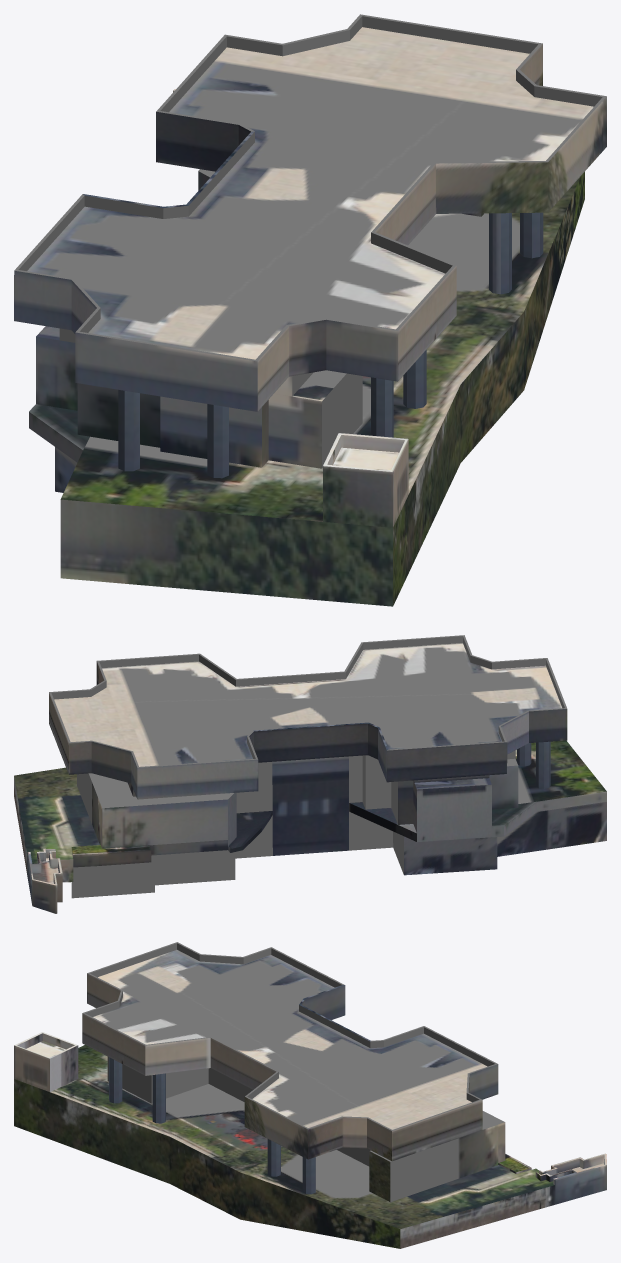
File: input.glb
The picture shows the model from 3 angles, top to bottom: view 1: azimuth 30°, elevation 25°; view 2: azimuth 150°, elevation 25°; view 3: azimuth 270°, elevation 25°; orthographic projection. The views are drawn at different scales.
Visible parts, largest first — view 1: B419431906102063A0; view 2: B419431906102063A0; view 3: B419431906102063A0.
Boxes of the visible parts, bbox=[...] form: B419431906102063A0: bbox=[14, 14, 606, 606]; B419431906102063A0: bbox=[14, 635, 606, 913]; B419431906102063A0: bbox=[14, 942, 606, 1248].
Size of the model in its own units: 72.38 by 20.59 by 84.44.
1 material, 1 textured.
